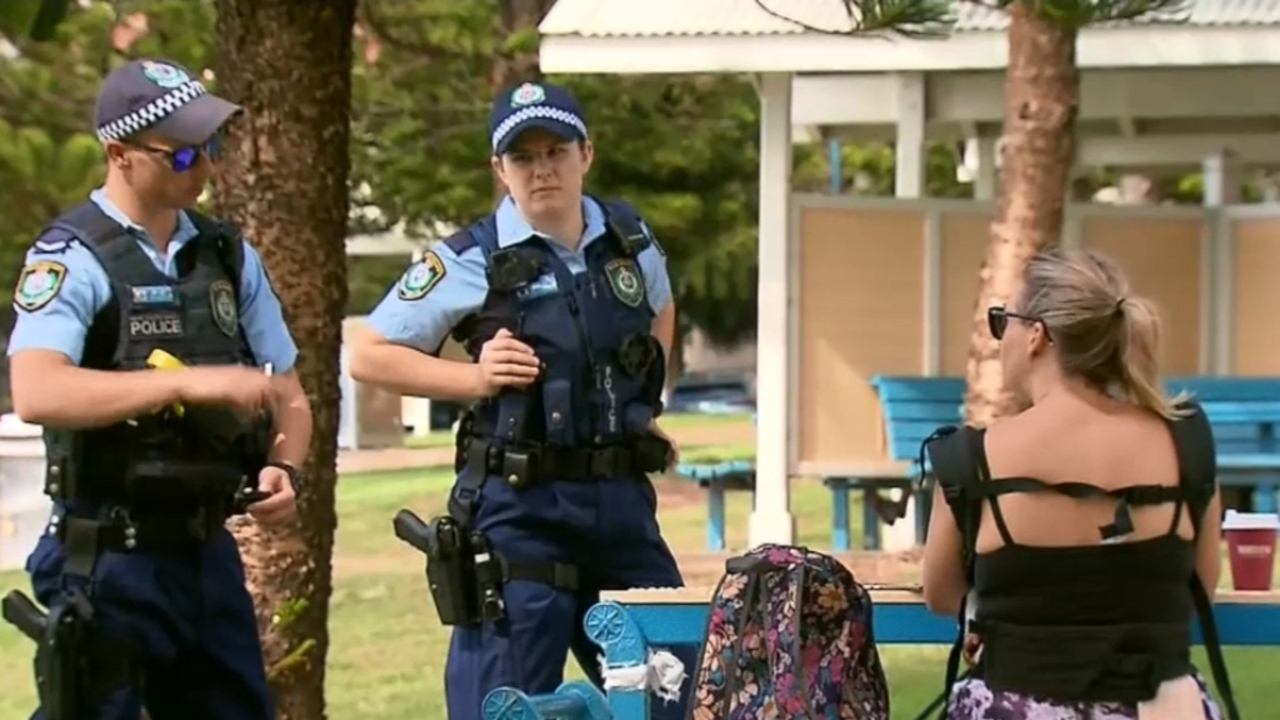Person: (6, 59, 311, 720), (346, 81, 684, 585), (923, 248, 1219, 720)
